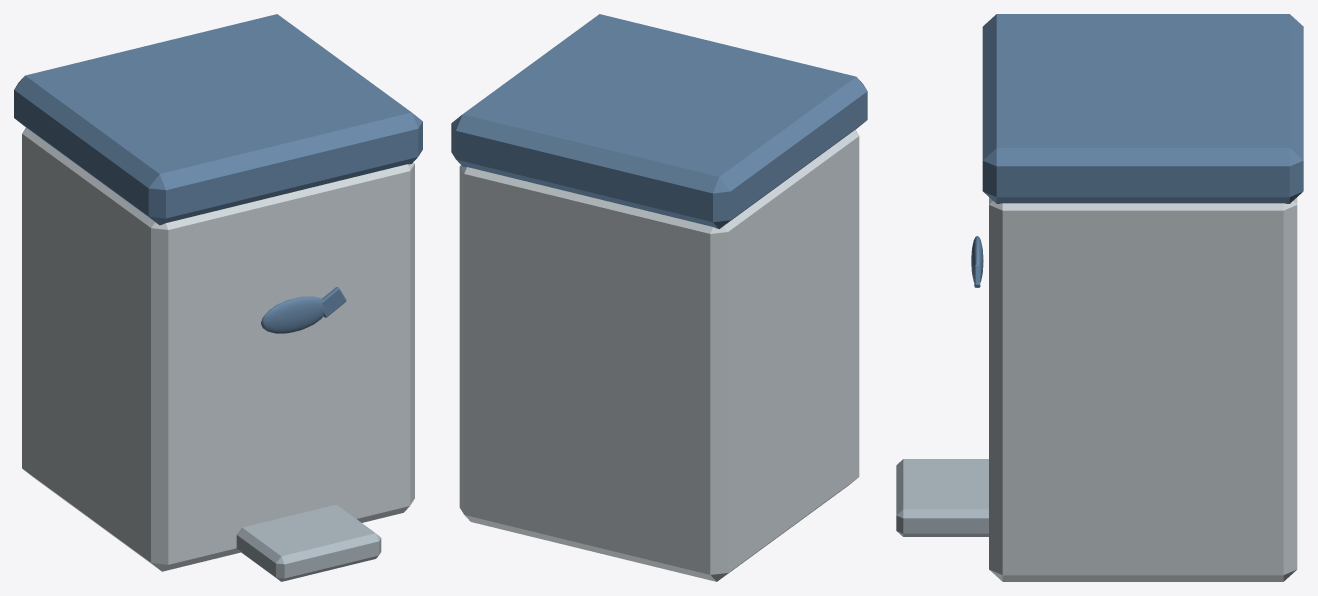
File: utility_10.glb
The picture shows the model from 3 angles, left to right: view 1: azimuth 30°, elevation 25°; view 2: azimuth 150°, elevation 25°; view 3: azimuth 270°, elevation 25°; orthographic projection. The views are drawn at different scales.
Visible parts, largest first — view 1: BinBody, BinLid, Pedal, WhaleBody; view 2: BinBody, BinLid; view 3: BinBody, BinLid, Pedal.
Part boxes in pixels (x1=…): BinBody: x1=22, y1=128, x2=414, y2=571; BinLid: x1=14, y1=14, x2=422, y2=225; Pedal: x1=236, y1=504, x2=381, y2=581; WhaleBody: x1=261, y1=296, x2=324, y2=333; BinBody: x1=459, y1=130, x2=859, y2=581; BinLid: x1=451, y1=14, x2=867, y2=229; BinBody: x1=989, y1=197, x2=1297, y2=581; BinLid: x1=982, y1=14, x2=1303, y2=203; Pedal: x1=896, y1=459, x2=988, y2=536.
Bounding box in the file's own units: 0.4472 × 0.6248 × 0.528.
